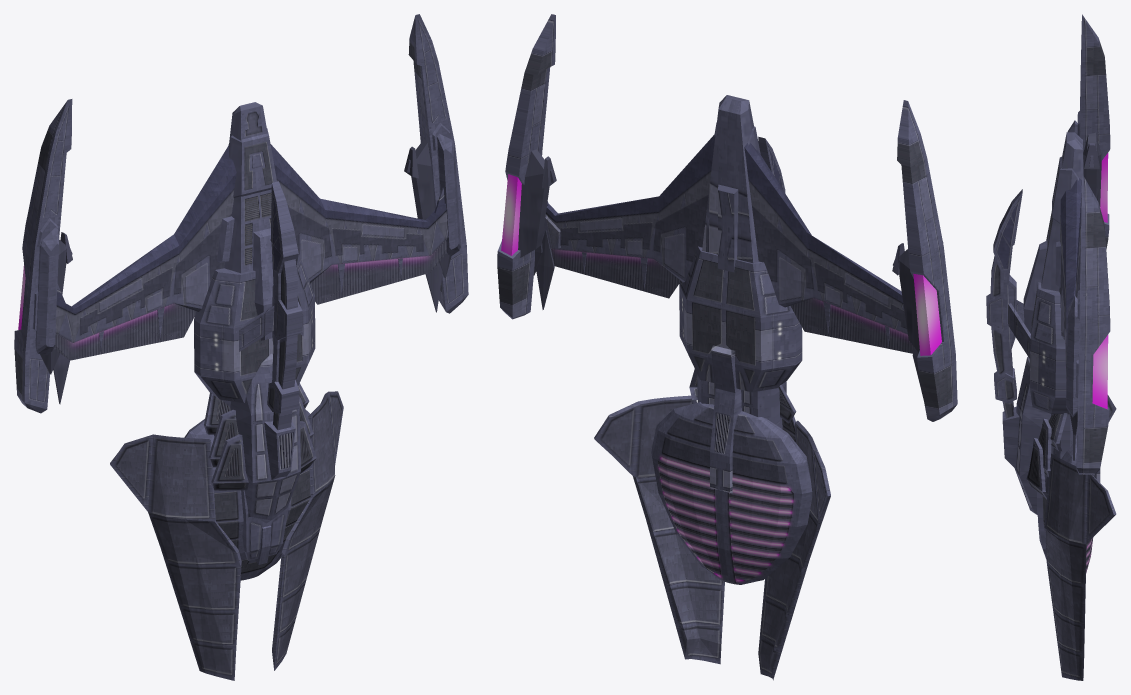
Rendered from DominionShipVirulent.obj.
3 views of the same model, side by side, from view 1: azimuth 30°, elevation 25°; view 2: azimuth 150°, elevation 25°; view 3: azimuth 270°, elevation 25° (orthographic). The views are drawn at different scales.
Parts seen in each view (by area): view 1: Virulent_Lit_1:9; view 2: Virulent_Lit_1:9; view 3: Virulent_Lit_1:9.
Part boxes in pixels (x1,y1,x2,y2): Virulent_Lit_1:9: [14, 14, 468, 680]; Virulent_Lit_1:9: [497, 14, 957, 680]; Virulent_Lit_1:9: [986, 14, 1116, 680].
Bounding box in the file's own units: 3.88 × 5.11 × 1.05.
10 materials, 10 textured.
